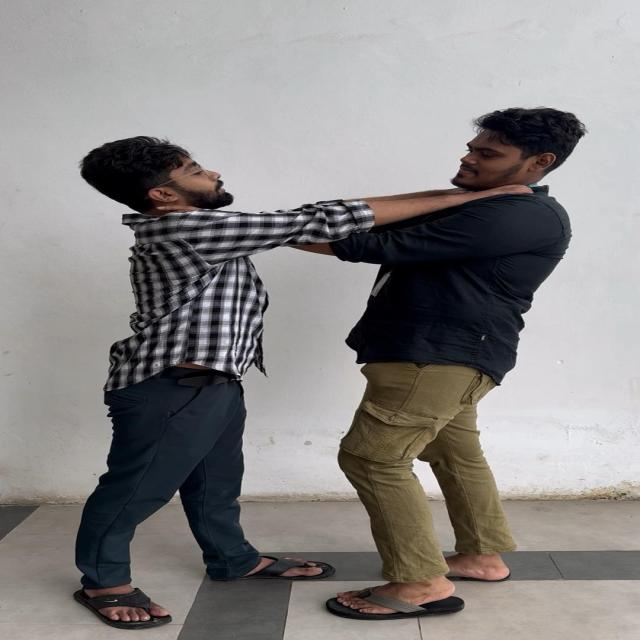fight: (57, 106, 597, 640)
